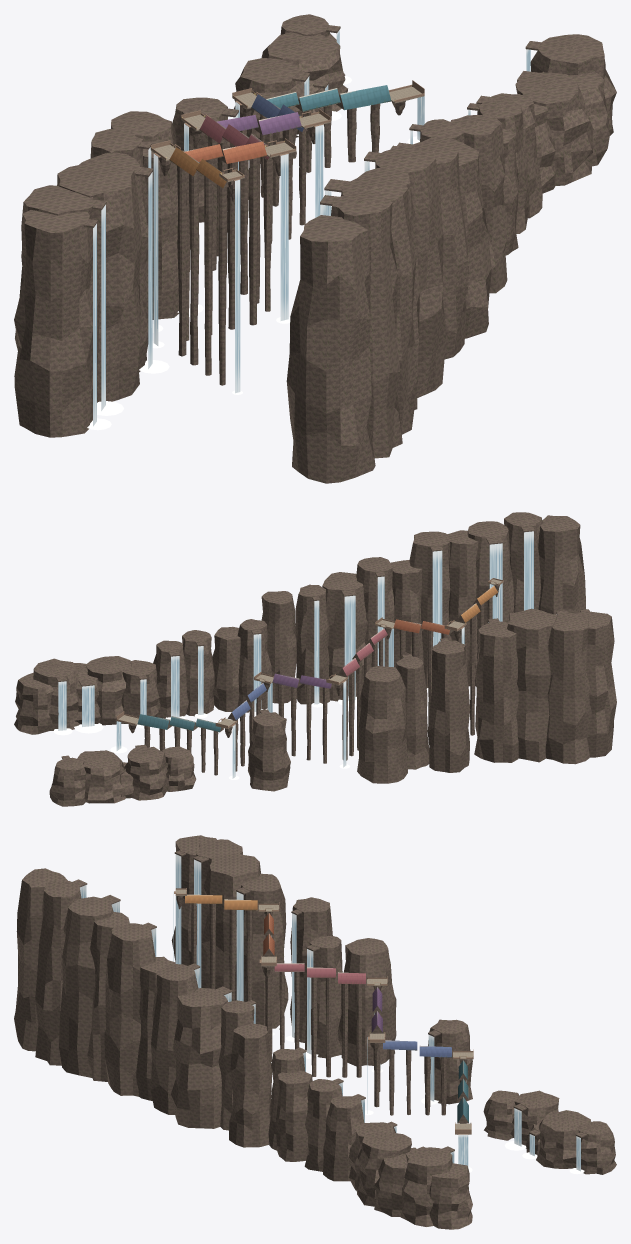
3 views of the same model, one above another, from view 1: azimuth 30°, elevation 25°; view 2: azimuth 150°, elevation 25°; view 3: azimuth 270°, elevation 25° (orthographic). The views are drawn at different scales.
Visible parts, largest first — view 1: canyon0__rock, canyon1__rock, canyon3__rock, canyon2__rock, st0__rock, st2__rock, falls__waterfall, st1__rock, st5__ramp_teal, st5__rock, pl2__waterfall, basin_fx__glow_mist (+9 smaller); view 2: canyon1__rock, canyon2__rock, canyon0__rock, canyon3__rock, falls__waterfall, st2__rock, st3__rock, st0__rock, st5__rock, st5__ramp_teal, st1__rock, st4__rock (+4 smaller); view 3: canyon0__rock, canyon1__rock, canyon3__rock, canyon2__rock, falls__waterfall, st2__rock, st0__rock, st4__rock, st2__ramp_rose, st0__ramp_ochre, st4__ramp_slate, st1__rock (+1 smaller).
Boxes of the visible parts, x1=… form: canyon0__rock: x1=14, y1=32, x2=529, y2=437; canyon1__rock: x1=90, y1=34, x2=616, y2=483; canyon3__rock: x1=143, y1=71, x2=609, y2=458; canyon2__rock: x1=15, y1=14, x2=491, y2=402; st0__rock: x1=177, y1=165, x2=228, y2=385; st2__rock: x1=208, y1=136, x2=272, y2=311; falls__waterfall: x1=93, y1=30, x2=530, y2=426; st1__rock: x1=186, y1=149, x2=257, y2=340; st5__ramp_teal: x1=266, y1=85, x2=391, y2=111; st5__rock: x1=258, y1=94, x2=380, y2=172; pl2__waterfall: x1=280, y1=154, x2=288, y2=320; basin_fx__glow_mist: x1=87, y1=76, x2=419, y2=430; canyon1__rock: x1=33, y1=515, x2=585, y2=783; canyon2__rock: x1=49, y1=560, x2=591, y2=806; canyon0__rock: x1=77, y1=531, x2=616, y2=803; canyon3__rock: x1=14, y1=512, x2=542, y2=769; falls__waterfall: x1=58, y1=531, x2=556, y2=730; st2__rock: x1=338, y1=638, x2=383, y2=760; st3__rock: x1=278, y1=679, x2=334, y2=763; st0__rock: x1=456, y1=597, x2=492, y2=735; st5__rock: x1=144, y1=720, x2=223, y2=775; st5__ramp_teal: x1=137, y1=714, x2=220, y2=732; st1__rock: x1=399, y1=624, x2=453, y2=722; st4__rock: x1=227, y1=695, x2=261, y2=771; canyon0__rock: x1=104, y1=835, x2=591, y2=1171; canyon1__rock: x1=14, y1=868, x2=454, y2=1226; canyon3__rock: x1=35, y1=879, x2=472, y2=1229; canyon2__rock: x1=136, y1=839, x2=616, y2=1174; falls__waterfall: x1=80, y1=854, x2=580, y2=1171; st2__rock: x1=279, y1=972, x2=362, y2=1077; st0__rock: x1=191, y1=903, x2=252, y2=1001; st4__rock: x1=389, y1=1049, x2=446, y2=1115; st2__ramp_rose: x1=274, y1=963, x2=365, y2=984; st0__ramp_ochre: x1=185, y1=894, x2=257, y2=910; st4__ramp_slate: x1=383, y1=1040, x2=451, y2=1057; st1__rock: x1=263, y1=929, x2=274, y2=1061.
Size of what is drawn, in the model's own units: 1168 by 354 by 1162.
13 materials, 11 textured.
